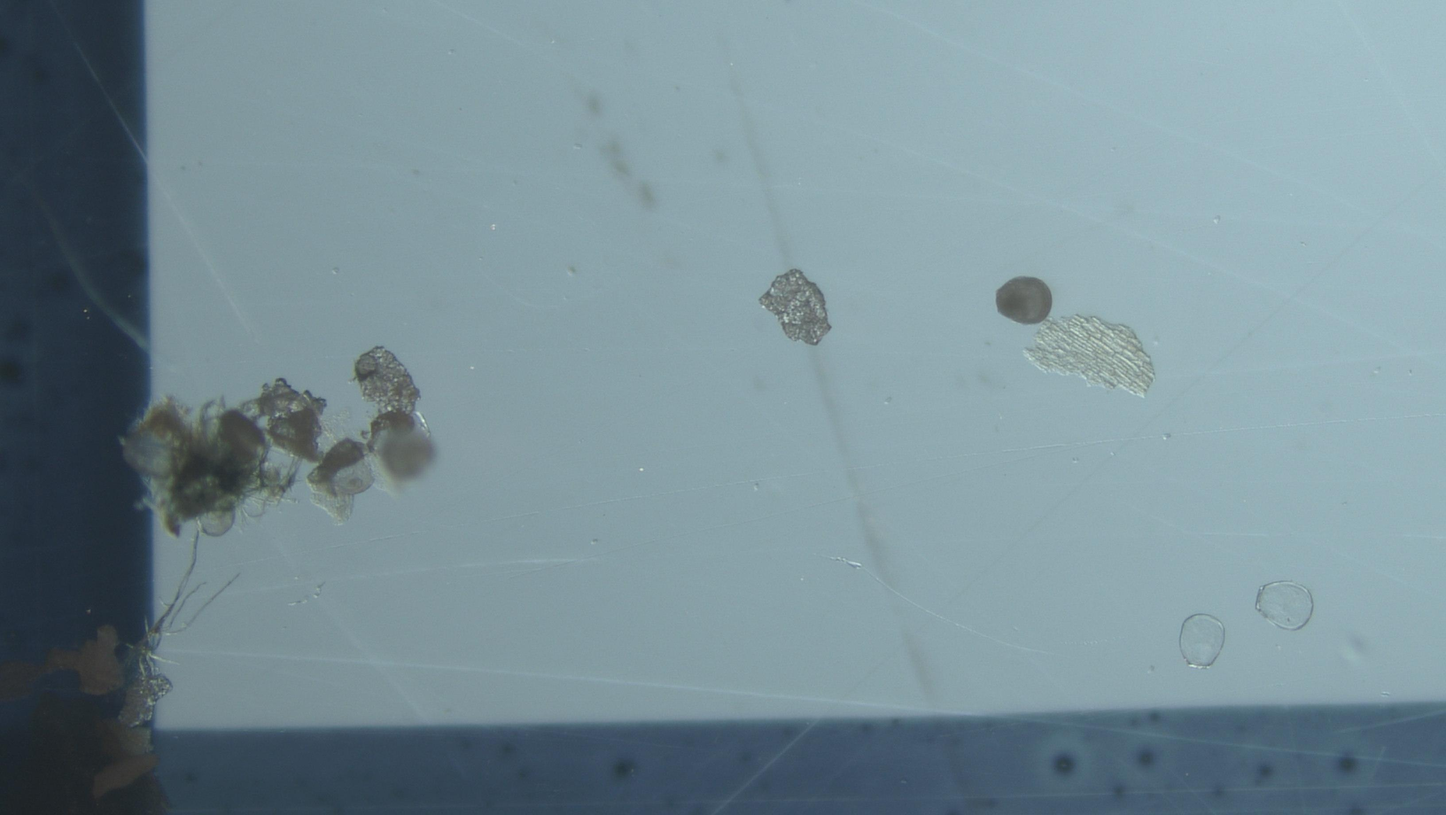dead: (378, 427, 435, 481), (1256, 582, 1314, 630), (122, 428, 171, 478), (1180, 614, 1225, 668), (327, 458, 373, 495), (199, 508, 235, 537)
live: (997, 278, 1052, 324), (219, 410, 265, 462)
